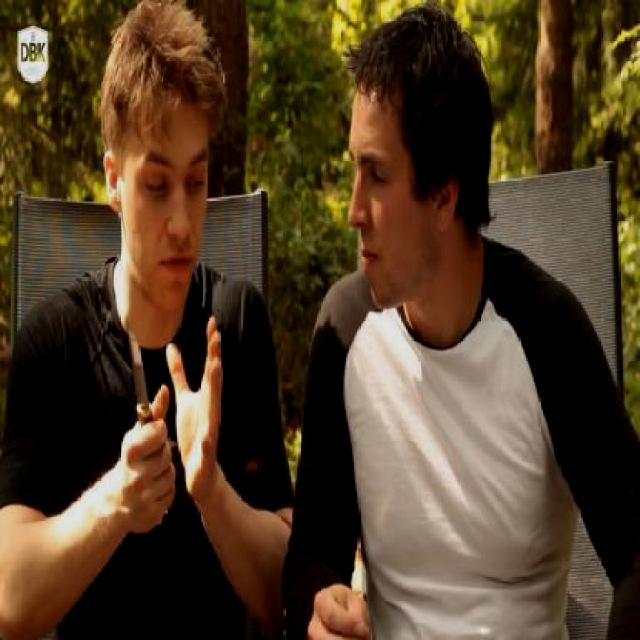knife: (104, 297, 178, 495)
